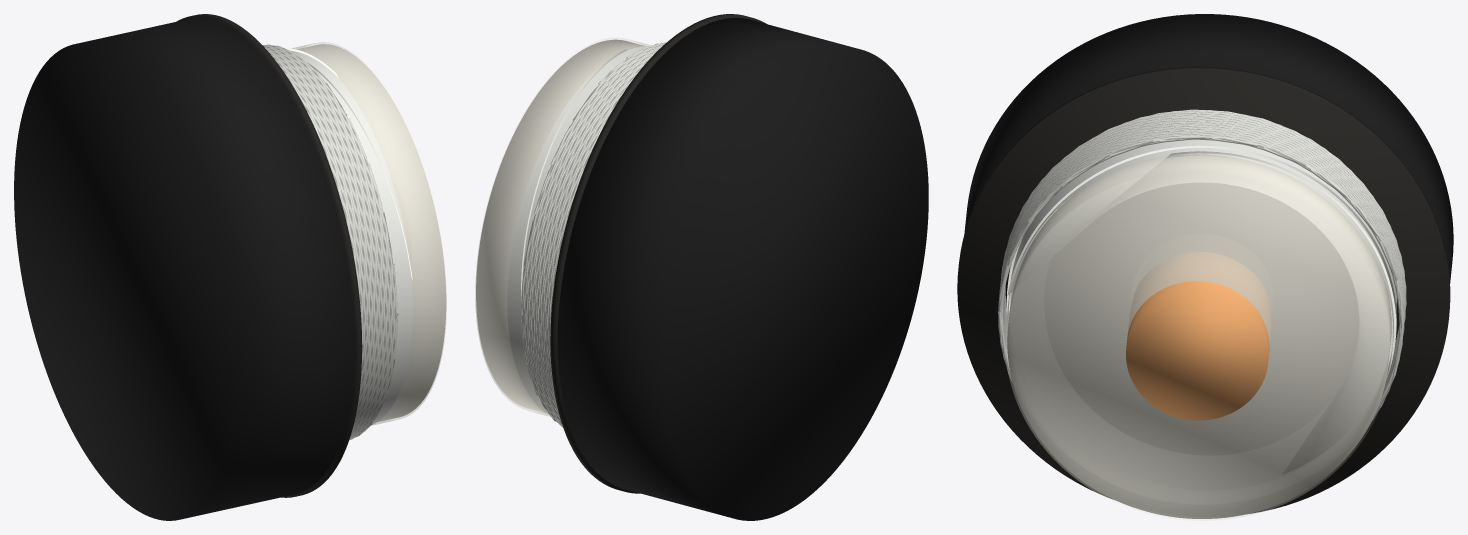
Rendered from rf-lmr1700.glb.
3 renders of one model, left to right at view 1: azimuth 30°, elevation 25°; view 2: azimuth 150°, elevation 25°; view 3: azimuth 270°, elevation 25°, orthographic.
Parts seen in each view (by area): view 1: matte black pvc jacket body, smooth dielectric skin, gas injected foam dielectric, duobond foil sleeve, jacket cut lip, braid left hand carrier 11, braid left hand carrier 08, braid left hand carrier 05, braid left hand carrier 14, braid left hand carrier 02, braid left hand carrier 12, braid left hand carrier 09 (+15 smaller); view 2: matte black pvc jacket body, smooth dielectric skin, gas injected foam dielectric, duobond foil sleeve, jacket cut lip, braid left hand carrier 02, braid left hand carrier 05, braid left hand carrier 23, braid left hand carrier 03, braid left hand carrier 20, braid left hand carrier 24, braid left hand carrier 06 (+10 smaller); view 3: gas injected foam dielectric, jacket cut lip, matte black pvc jacket body, solid center conductor continuous, subtle foil wrap lap, smooth dielectric skin, duobond foil sleeve, braid left hand carrier 06, braid left hand carrier 03, braid left hand carrier 09, braid left hand carrier 18, braid left hand carrier 21 (+11 smaller).
Part boxes in pixels (bbox=[...]): matte black pvc jacket body: bbox=[14, 17, 354, 520]; smooth dielectric skin: bbox=[291, 42, 446, 425]; gas injected foam dielectric: bbox=[297, 44, 446, 421]; duobond foil sleeve: bbox=[290, 50, 412, 424]; jacket cut lip: bbox=[177, 14, 362, 497]; braid left hand carrier 11: bbox=[273, 45, 392, 437]; braid left hand carrier 08: bbox=[266, 44, 389, 434]; braid left hand carrier 05: bbox=[266, 46, 387, 434]; braid left hand carrier 14: bbox=[271, 54, 394, 438]; braid left hand carrier 02: bbox=[264, 46, 384, 432]; braid left hand carrier 12: bbox=[271, 55, 392, 433]; braid left hand carrier 09: bbox=[262, 45, 390, 436]; matte black pvc jacket body: bbox=[557, 18, 928, 520]; smooth dielectric skin: bbox=[475, 38, 651, 416]; gas injected foam dielectric: bbox=[476, 39, 644, 413]; duobond foil sleeve: bbox=[507, 46, 647, 414]; jacket cut lip: bbox=[550, 14, 766, 493]; braid left hand carrier 02: bbox=[523, 48, 660, 427]; braid left hand carrier 05: bbox=[521, 45, 662, 402]; braid left hand carrier 23: bbox=[526, 48, 659, 425]; braid left hand carrier 03: bbox=[523, 46, 661, 421]; braid left hand carrier 20: bbox=[528, 51, 656, 422]; braid left hand carrier 24: bbox=[525, 49, 658, 426]; braid left hand carrier 06: bbox=[520, 45, 663, 406]; gas injected foam dielectric: bbox=[1007, 155, 1391, 518]; jacket cut lip: bbox=[957, 67, 1450, 514]; matte black pvc jacket body: bbox=[964, 14, 1453, 283]; solid center conductor continuous: bbox=[1126, 252, 1272, 420]; subtle foil wrap lap: bbox=[1006, 145, 1396, 473]; smooth dielectric skin: bbox=[1005, 154, 1392, 520]; duobond foil sleeve: bbox=[1006, 139, 1396, 378]; braid left hand carrier 06: bbox=[998, 114, 1405, 328]; braid left hand carrier 03: bbox=[1000, 113, 1405, 418]; braid left hand carrier 09: bbox=[998, 116, 1404, 321]; braid left hand carrier 18: bbox=[998, 110, 1406, 380]; braid left hand carrier 21: bbox=[1001, 111, 1405, 319].
Bounding box in the file's own units: 6.81 × 11.22 × 11.29.
